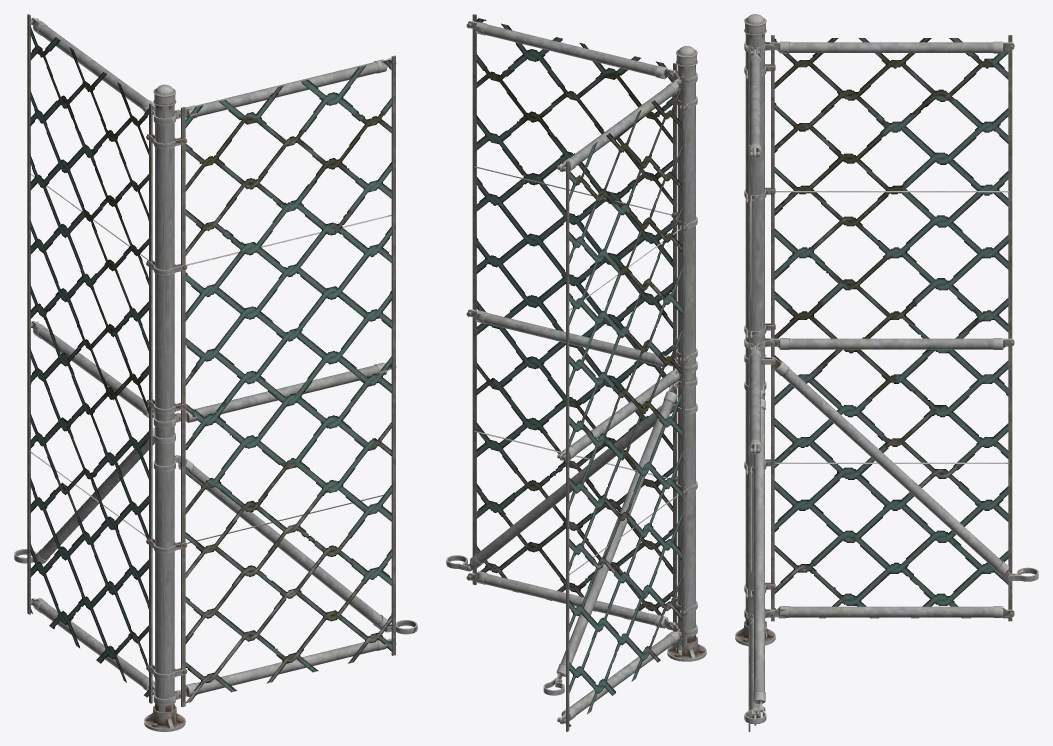
Rendered from modular-chainlink-fence-corner.glb.
The picture shows the model from 3 angles, left to right: view 1: azimuth 30°, elevation 25°; view 2: azimuth 150°, elevation 25°; view 3: azimuth 270°, elevation 25°; orthographic projection. The views are drawn at different scales.
Parts seen in each view (by area): view 1: modular_chainlink_fence_corner; view 2: modular_chainlink_fence_corner; view 3: modular_chainlink_fence_corner.
Boxes of the visible parts, box(x1,y1,x2,y2) form: modular_chainlink_fence_corner: box(14, 14, 417, 731); modular_chainlink_fence_corner: box(446, 14, 706, 731); modular_chainlink_fence_corner: box(735, 14, 1038, 731).
Bounding box in the file's own units: 1.11 × 2.52 × 1.11.
2 materials, 2 textured.
